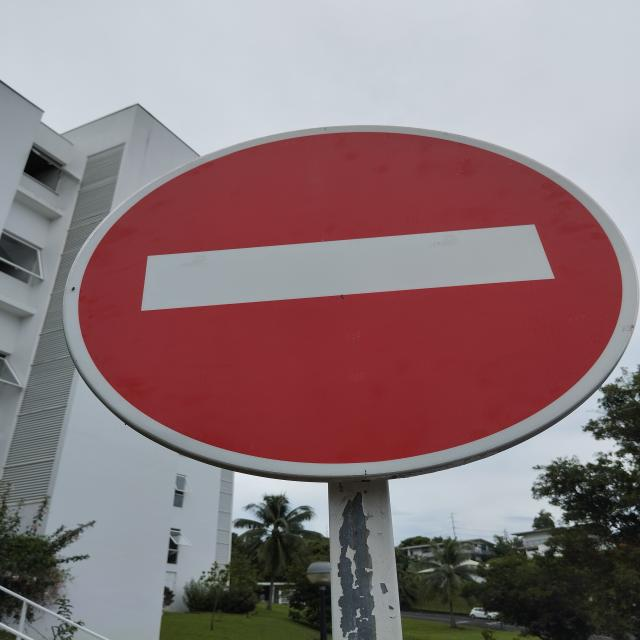Sens-Interdit: (60, 121, 638, 480)
